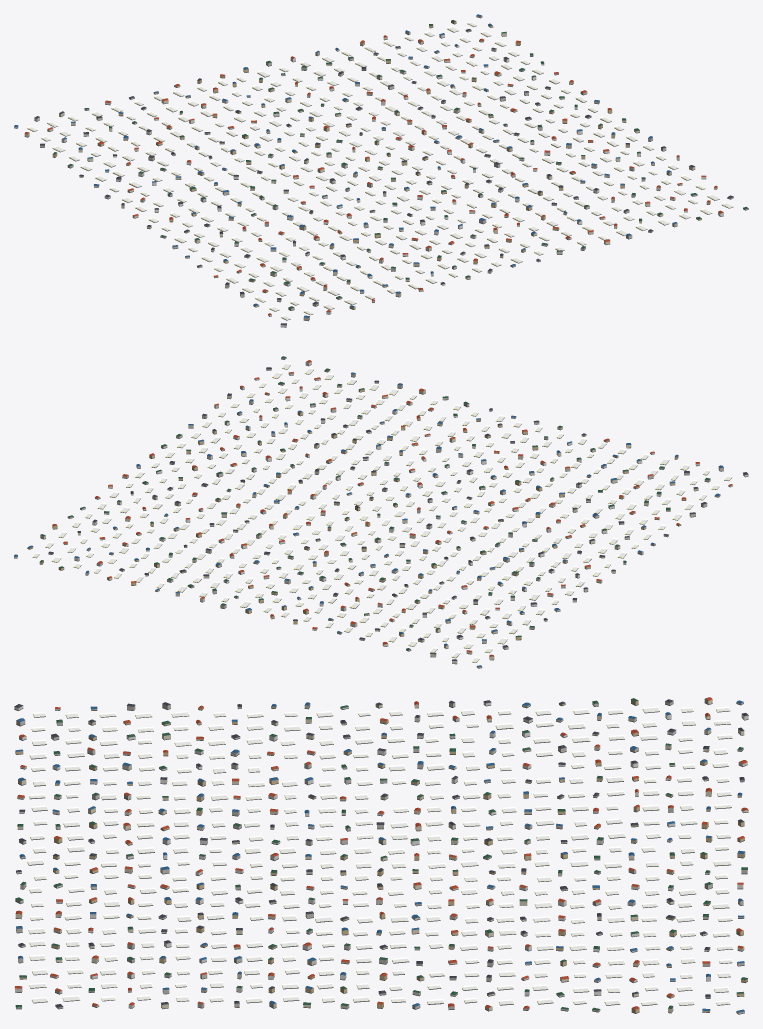
File: buildings_T_E01_S04.glb
The picture shows the model from 3 angles, top to bottom: view 1: azimuth 30°, elevation 25°; view 2: azimuth 150°, elevation 25°; view 3: azimuth 270°, elevation 25°; orthographic projection. The views are drawn at different scales.
Parts seen in each view (by area): view 1: T_E01_S04_roofs_agri_greenhouse_arch, T_E01_S04_slope_seating_foundations, T_E01_S04_walls_wall_french_ochre_villa, T_E01_S04_walls_wall_pastel_sand_gray, T_E01_S04_walls_wall_dalat_cream_stucco, T_E01_S04_walls_wall_modern_warm_white, T_E01_S04_roofs_roof_terracotta_gable, T_E01_S04_roofs_roof_highland_blue_gable, T_E01_S04_roofs_roof_pine_green_hip, T_E01_S04_roofs_roof_slate_French_villa_hip; view 2: T_E01_S04_roofs_agri_greenhouse_arch, T_E01_S04_slope_seating_foundations, T_E01_S04_walls_wall_french_ochre_villa, T_E01_S04_walls_wall_pastel_sand_gray, T_E01_S04_walls_wall_dalat_cream_stucco, T_E01_S04_walls_wall_modern_warm_white, T_E01_S04_roofs_roof_terracotta_gable, T_E01_S04_roofs_roof_pine_green_hip, T_E01_S04_roofs_roof_highland_blue_gable, T_E01_S04_roofs_roof_slate_French_villa_hip; view 3: T_E01_S04_roofs_agri_greenhouse_arch, T_E01_S04_slope_seating_foundations, T_E01_S04_walls_wall_french_ochre_villa, T_E01_S04_walls_wall_pastel_sand_gray, T_E01_S04_walls_wall_dalat_cream_stucco, T_E01_S04_walls_wall_modern_warm_white, T_E01_S04_roofs_roof_terracotta_gable, T_E01_S04_roofs_roof_highland_blue_gable, T_E01_S04_roofs_roof_pine_green_hip, T_E01_S04_roofs_roof_slate_French_villa_hip.
Part boxes in pixels (left/top/right/bottom): T_E01_S04_roofs_agri_greenhouse_arch: left=27, top=21, right=733, bottom=319; T_E01_S04_slope_seating_foundations: left=14, top=17, right=748, bottom=327; T_E01_S04_walls_wall_french_ochre_villa: left=52, top=21, right=701, bottom=309; T_E01_S04_walls_wall_pastel_sand_gray: left=14, top=30, right=748, bottom=320; T_E01_S04_walls_wall_dalat_cream_stucco: left=24, top=15, right=717, bottom=306; T_E01_S04_walls_wall_modern_warm_white: left=34, top=34, right=723, bottom=326; T_E01_S04_roofs_roof_terracotta_gable: left=24, top=35, right=723, bottom=315; T_E01_S04_roofs_roof_highland_blue_gable: left=14, top=14, right=677, bottom=317; T_E01_S04_roofs_roof_pine_green_hip: left=53, top=20, right=748, bottom=308; T_E01_S04_roofs_roof_slate_French_villa_hip: left=34, top=29, right=733, bottom=325; T_E01_S04_roofs_agri_greenhouse_arch: left=32, top=362, right=732, bottom=662; T_E01_S04_slope_seating_foundations: left=14, top=358, right=748, bottom=668; T_E01_S04_walls_wall_french_ochre_villa: left=27, top=370, right=685, bottom=639; T_E01_S04_walls_wall_pastel_sand_gray: left=48, top=357, right=723, bottom=668; T_E01_S04_walls_wall_dalat_cream_stucco: left=14, top=378, right=720, bottom=659; T_E01_S04_walls_wall_modern_warm_white: left=74, top=361, right=748, bottom=663; T_E01_S04_roofs_roof_terracotta_gable: left=52, top=360, right=732, bottom=656; T_E01_S04_roofs_roof_pine_green_hip: left=40, top=356, right=710, bottom=650; T_E01_S04_roofs_roof_highland_blue_gable: left=14, top=372, right=723, bottom=667; T_E01_S04_roofs_roof_slate_French_villa_hip: left=48, top=367, right=748, bottom=660; T_E01_S04_roofs_agri_greenhouse_arch: left=27, top=706, right=733, bottom=1005; T_E01_S04_slope_seating_foundations: left=14, top=703, right=748, bottom=1014; T_E01_S04_walls_wall_french_ochre_villa: left=15, top=699, right=747, bottom=1013; T_E01_S04_walls_wall_pastel_sand_gray: left=15, top=701, right=747, bottom=1010; T_E01_S04_walls_wall_dalat_cream_stucco: left=15, top=698, right=744, bottom=1013; T_E01_S04_walls_wall_modern_warm_white: left=14, top=702, right=748, bottom=1010; T_E01_S04_roofs_roof_terracotta_gable: left=14, top=697, right=748, bottom=1009; T_E01_S04_roofs_roof_highland_blue_gable: left=16, top=700, right=744, bottom=1012; T_E01_S04_roofs_roof_pine_green_hip: left=15, top=698, right=747, bottom=1010; T_E01_S04_roofs_roof_slate_French_villa_hip: left=14, top=699, right=748, bottom=1007.
Size of the model in its own units: 1751 by 31.77 by 1752.
